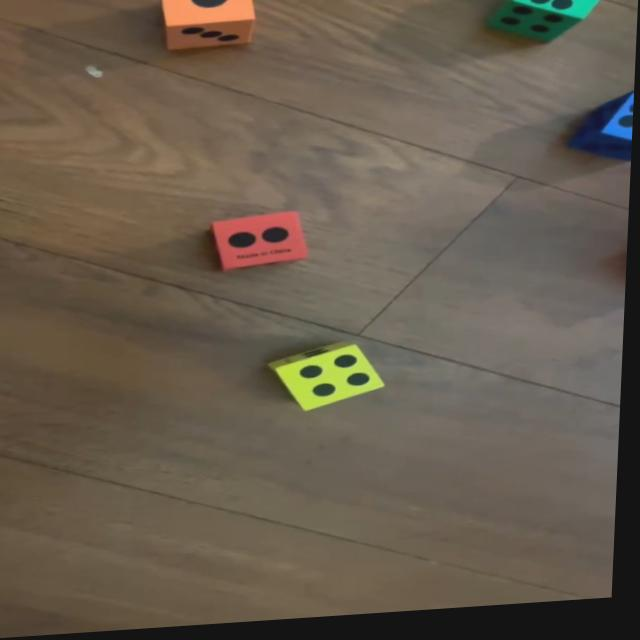blue_block: (575, 100, 635, 173)
red_block: (209, 212, 312, 275)
